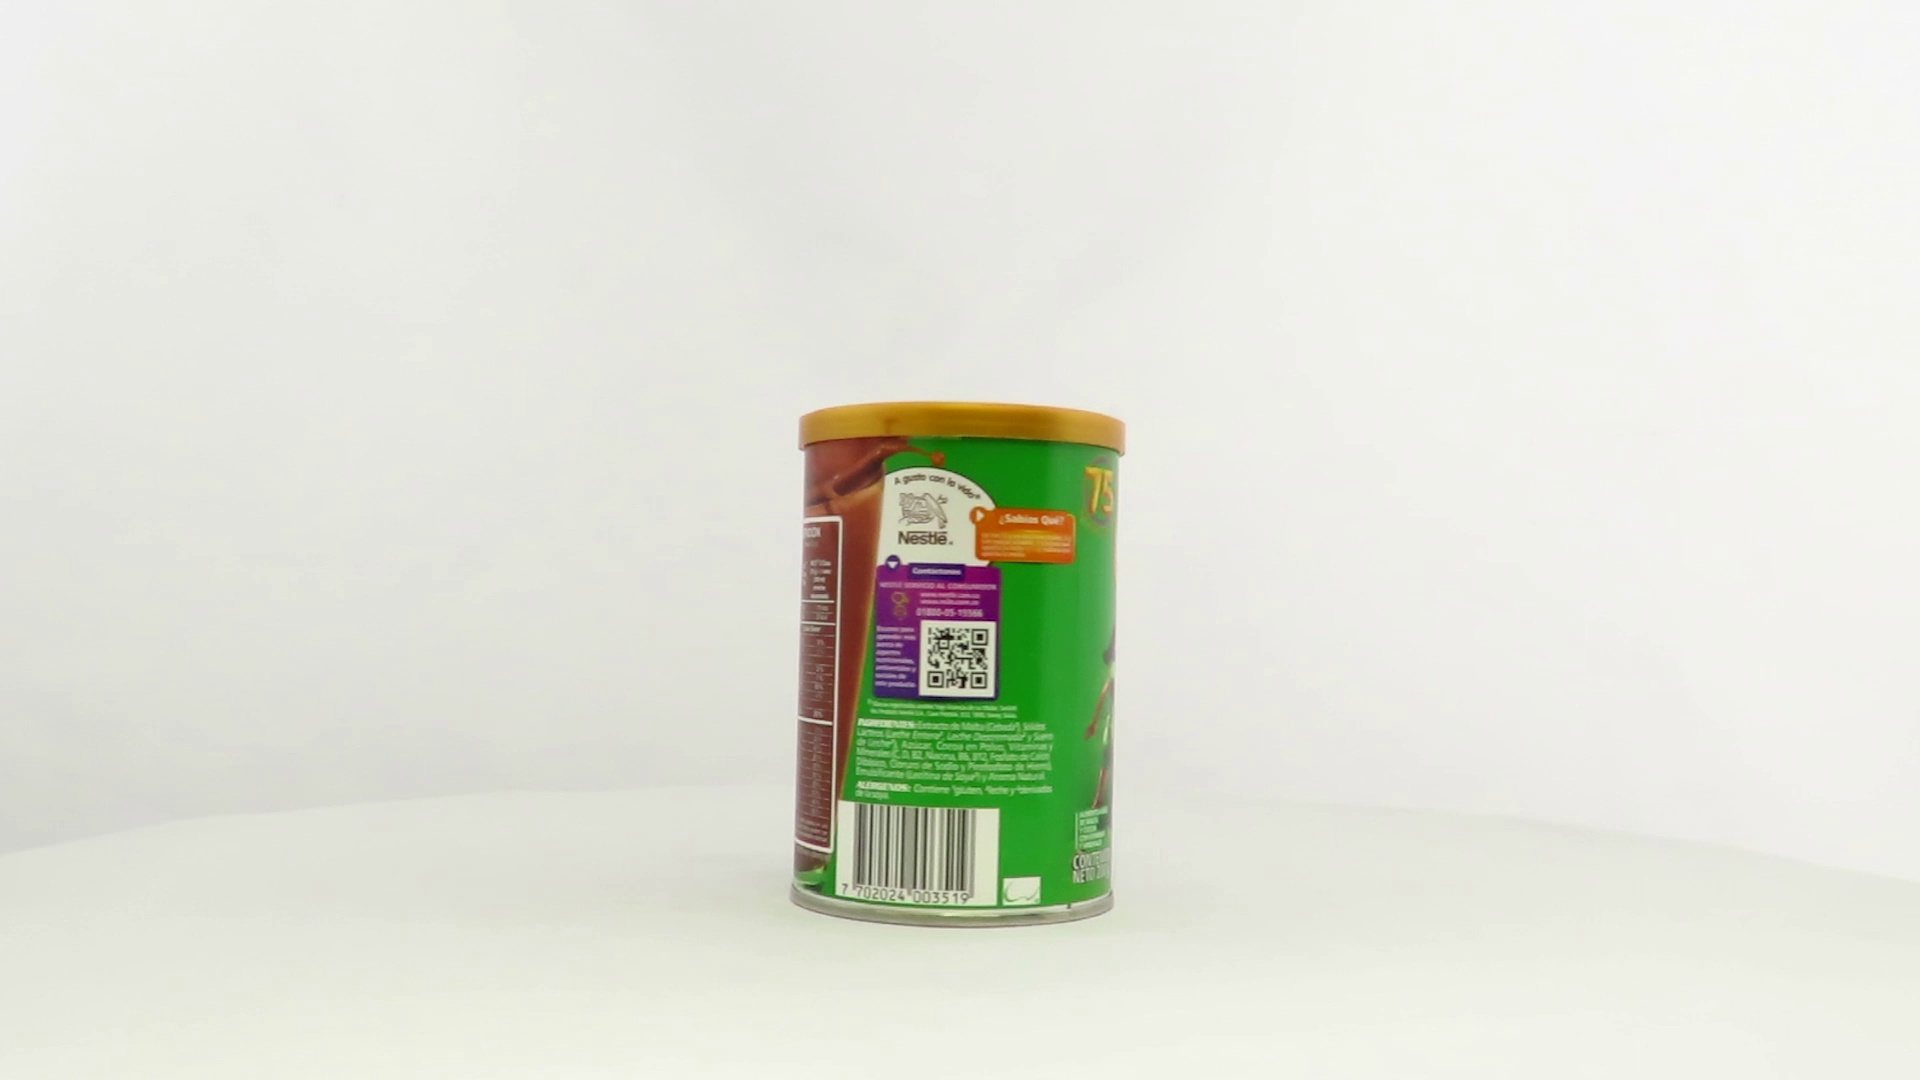COL0170203LAT20000: (785, 396, 1131, 935)
